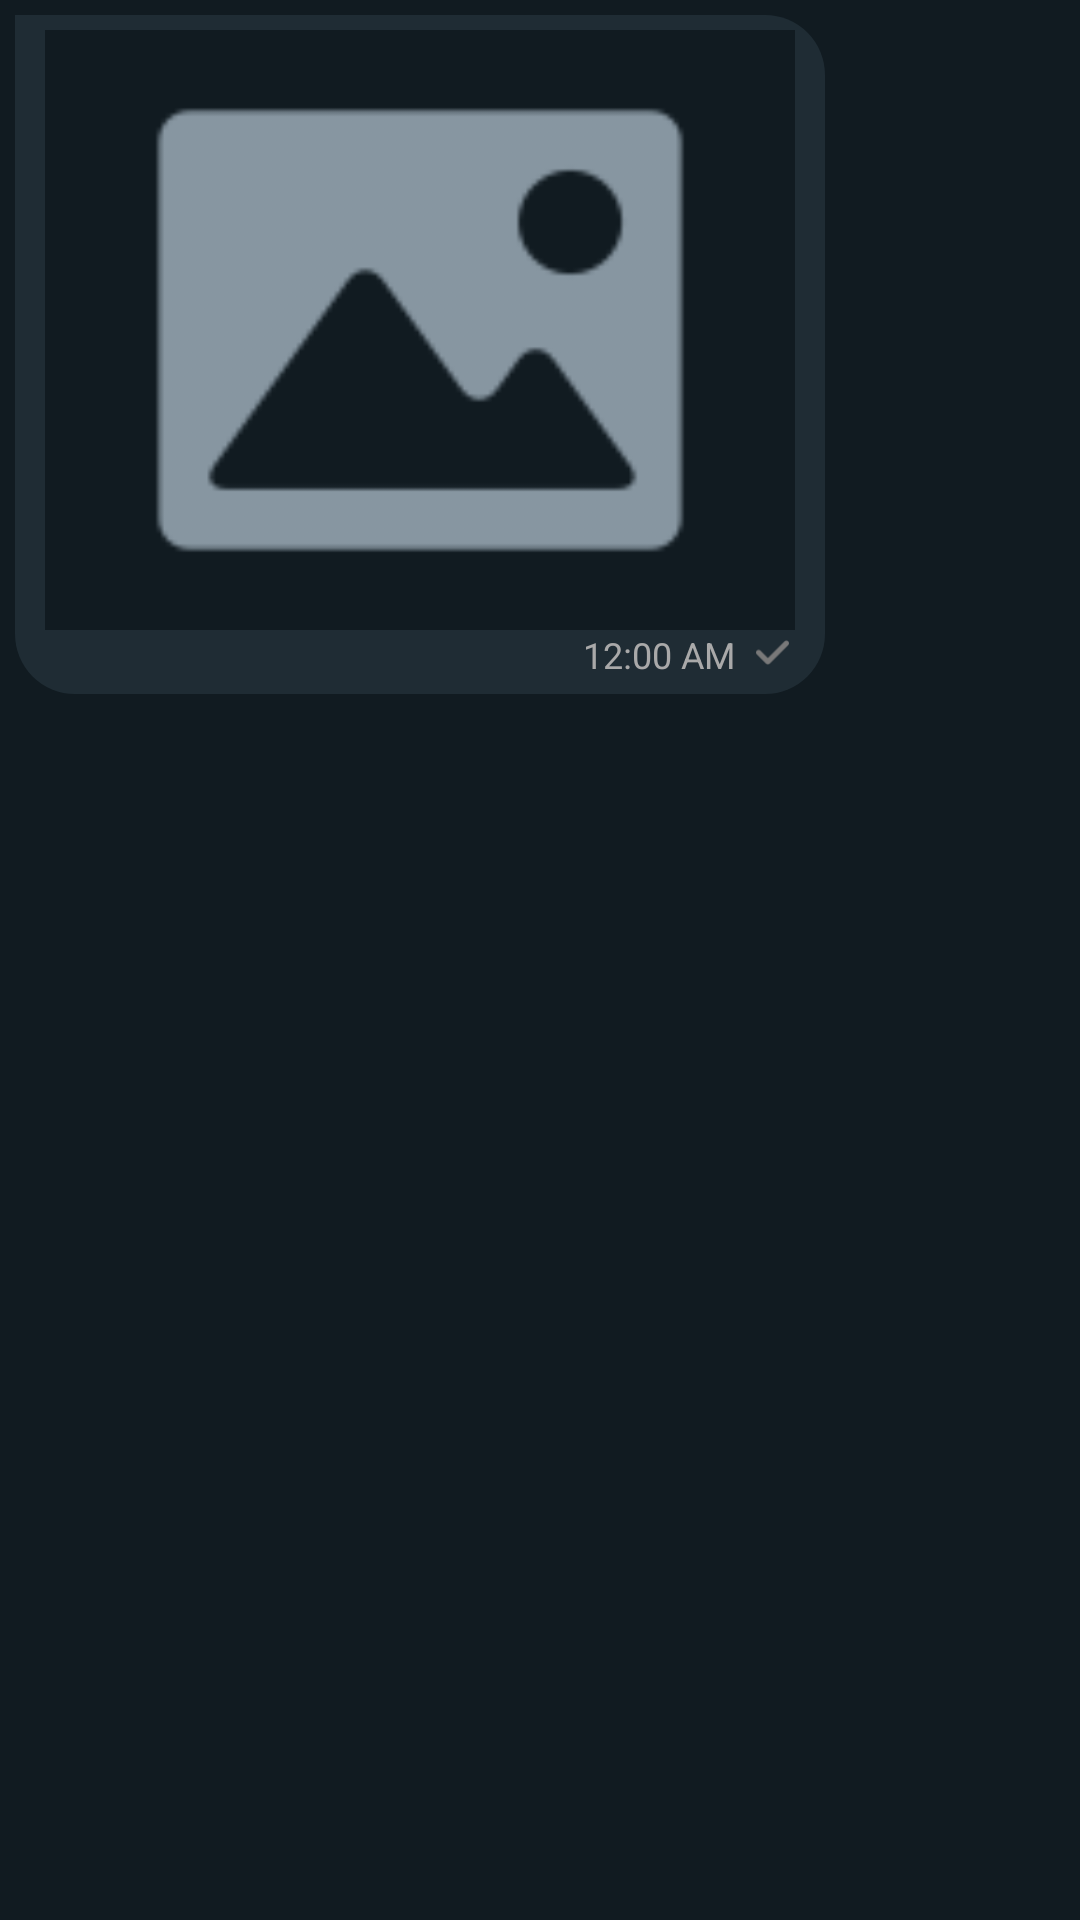

Icons on this 1080 x 1920 Android screen, each with its box as (x1, y1, x2, y2):
single tick: (756, 640, 789, 665)
